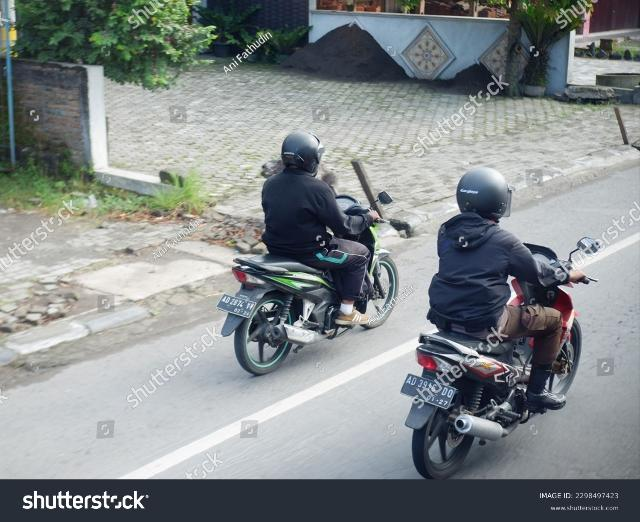helm: (456, 166, 515, 227), (283, 130, 325, 177)
motor: (389, 241, 603, 481), (214, 189, 404, 377)
